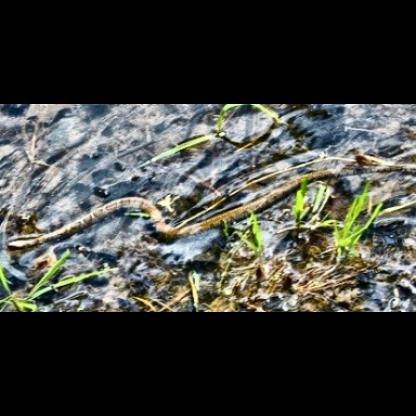Snake: (7, 107, 411, 296)
